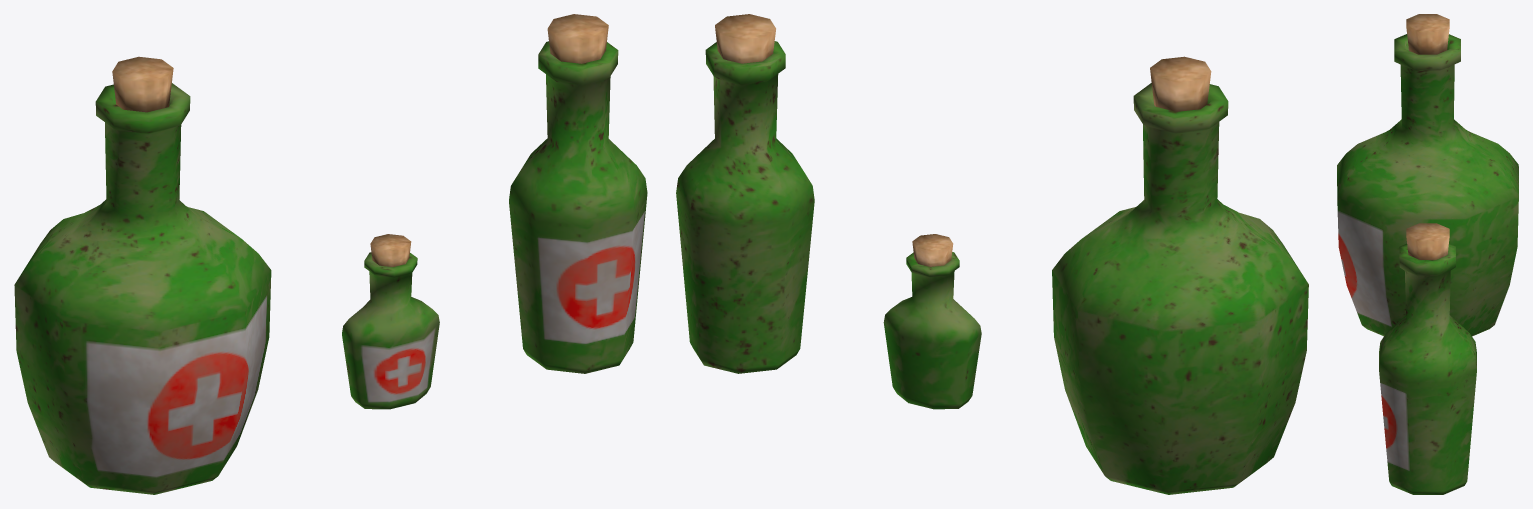
The picture shows the model from 3 angles, left to right: view 1: azimuth 30°, elevation 25°; view 2: azimuth 150°, elevation 25°; view 3: azimuth 270°, elevation 25°; orthographic projection. The views are drawn at different scales.
Visible parts, largest first — view 1: drinkable_health_lg, drinkable_health_med, drinkable_health_sm, cork_2_1, cork_2, cork_2_2; view 2: drinkable_health_lg, drinkable_health_med, drinkable_health_sm, cork_2_1, cork_2, cork_2_2; view 3: drinkable_health_lg, drinkable_health_med, cork_2_1, cork_2.
Boxes of the visible parts, x1=… form: drinkable_health_lg: x1=14, y1=83, x2=271, y2=494; drinkable_health_med: x1=509, y1=41, x2=647, y2=373; drinkable_health_sm: x1=342, y1=252, x2=439, y2=409; cork_2_1: x1=112, y1=56, x2=173, y2=112; cork_2: x1=547, y1=14, x2=608, y2=63; cork_2_2: x1=370, y1=234, x2=411, y2=266; drinkable_health_lg: x1=1052, y1=83, x2=1308, y2=494; drinkable_health_med: x1=676, y1=41, x2=814, y2=373; drinkable_health_sm: x1=883, y1=252, x2=981, y2=409; cork_2_1: x1=1150, y1=56, x2=1211, y2=111; cork_2: x1=715, y1=14, x2=775, y2=63; cork_2_2: x1=912, y1=234, x2=953, y2=266; drinkable_health_lg: x1=1337, y1=34, x2=1518, y2=336; drinkable_health_med: x1=1379, y1=243, x2=1476, y2=494; cork_2_1: x1=1406, y1=14, x2=1449, y2=54; cork_2: x1=1406, y1=223, x2=1449, y2=259.
Bounding box in the file's own units: 65.75 × 41.34 × 22.94.
